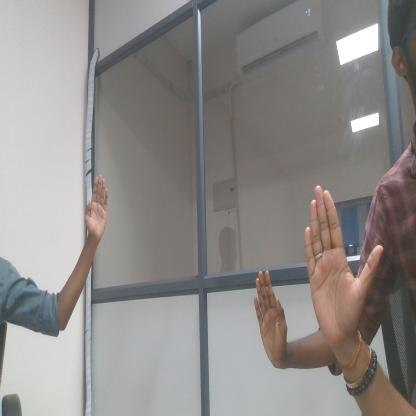Stop: (300, 184, 382, 341), (249, 268, 292, 374), (83, 169, 112, 246)
